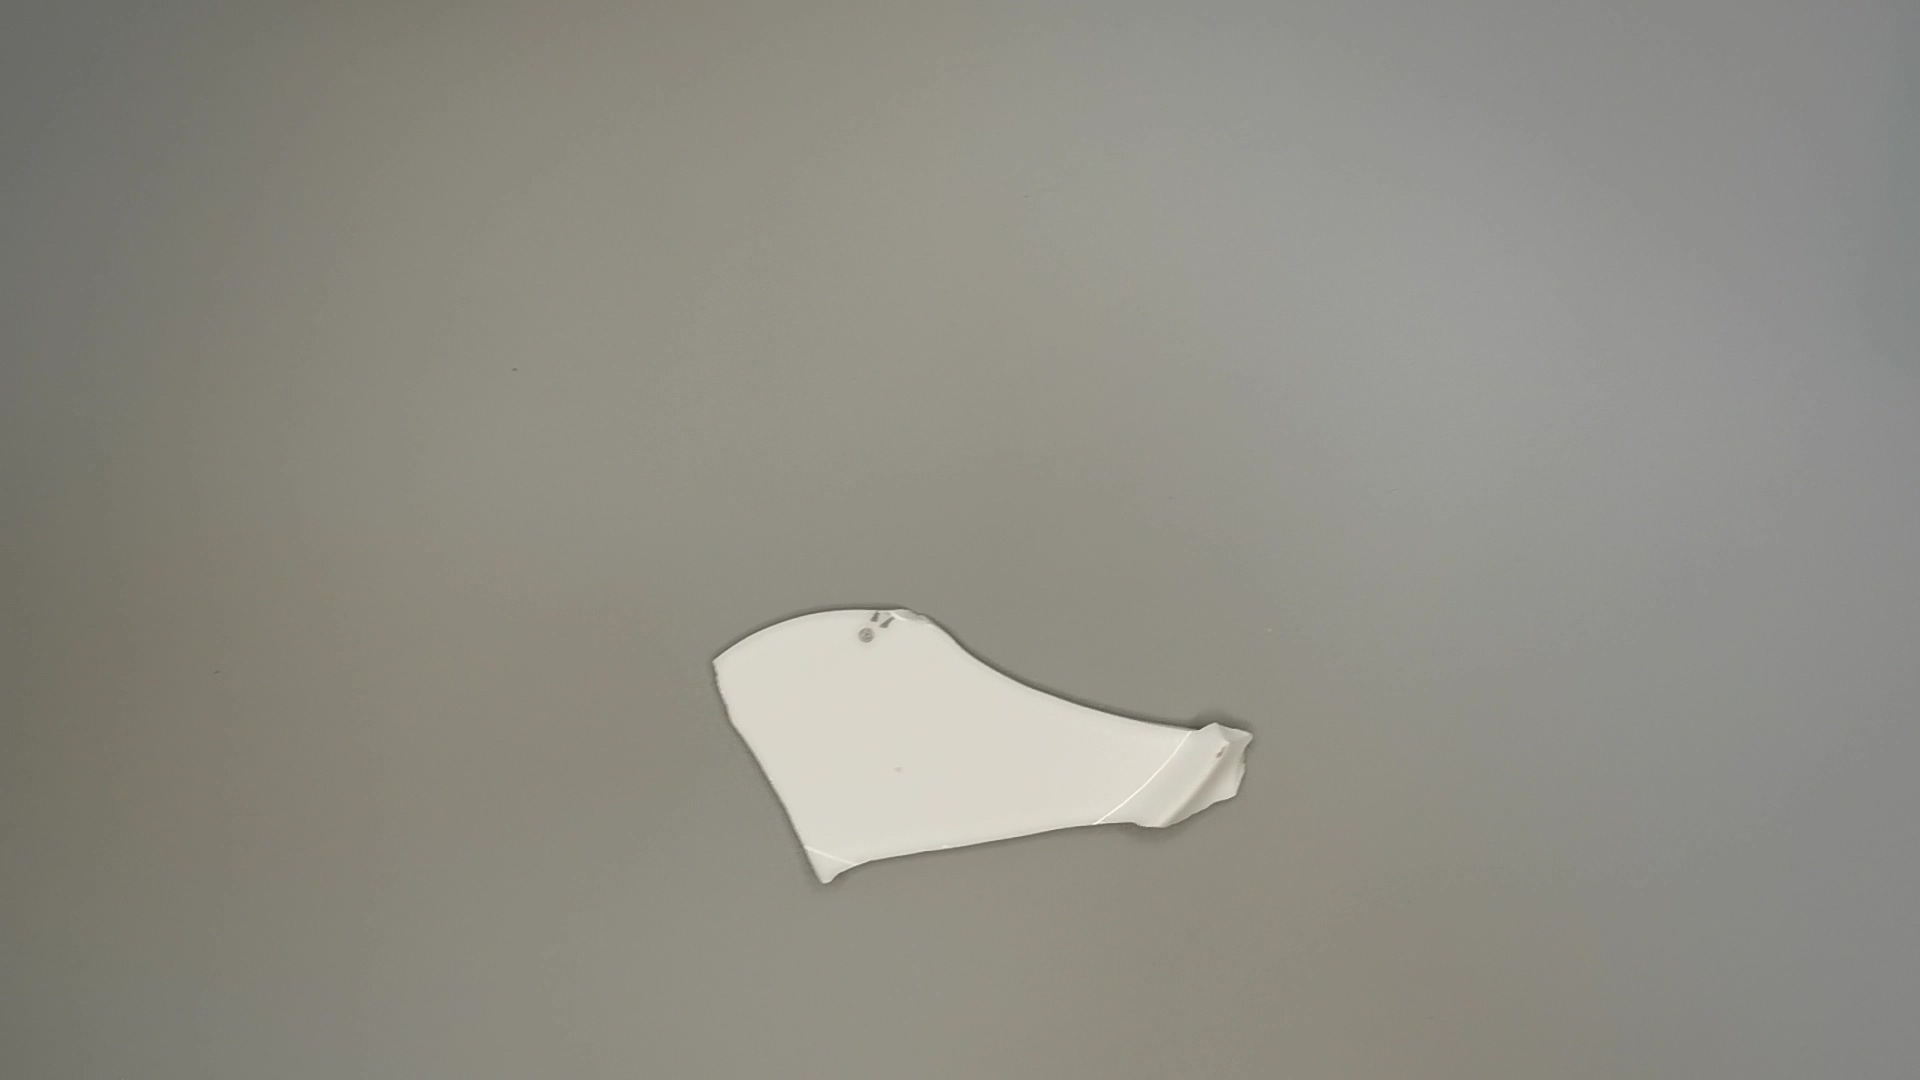ceramic: (704, 601, 1262, 905)
